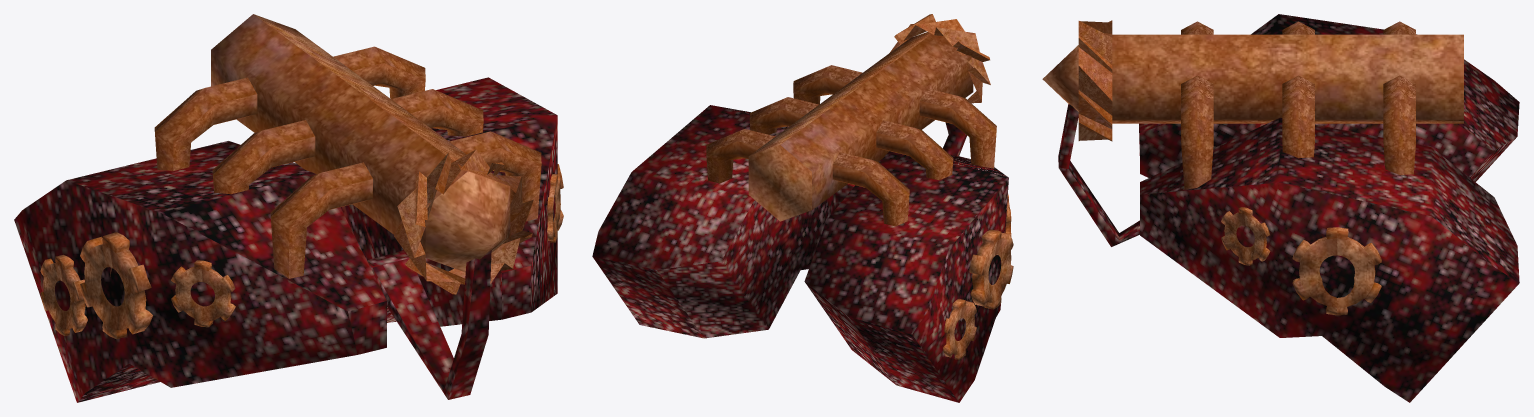
Rendered from ENGINE.fbx.
3 views of the same model, side by side, from view 1: azimuth 30°, elevation 25°; view 2: azimuth 150°, elevation 25°; view 3: azimuth 270°, elevation 25° (orthographic). The views are drawn at different scales.
Visible parts, largest first — view 1: Worm Gear; view 2: Worm Gear; view 3: Worm Gear.
Boxes of the visible parts, x1=… form: Worm Gear: x1=14, y1=14, x2=563, y2=402; Worm Gear: x1=592, y1=14, x2=1013, y2=402; Worm Gear: x1=1042, y1=14, x2=1519, y2=402.
Bounding box in the file's own units: 274 × 192 × 292.
